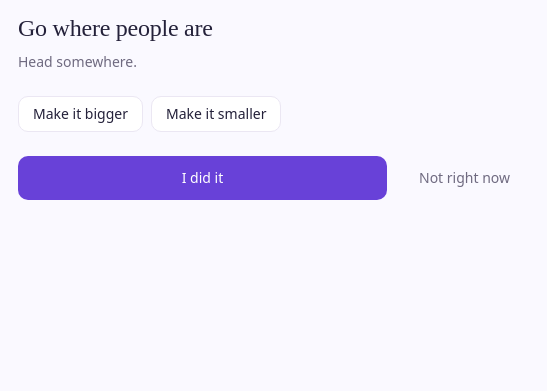
Test: TinyActionFlow › has no axe violations on the floor + support-nudge view
Click the button "Make it smaller": (216, 114) [151, 96, 281, 132]
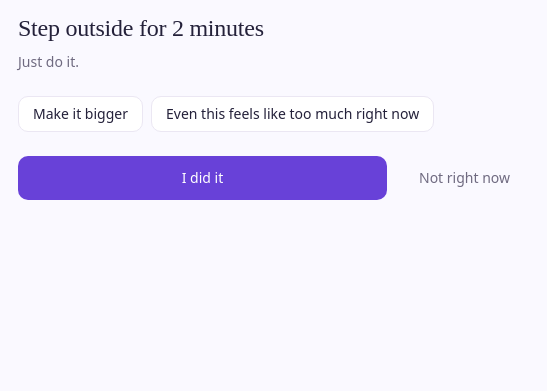
expect the heading "Step outside for 2 minutes" is shown: met, box [18, 15, 264, 41]
Click the button "Even this feels like too much right now": (293, 114) [151, 96, 434, 132]
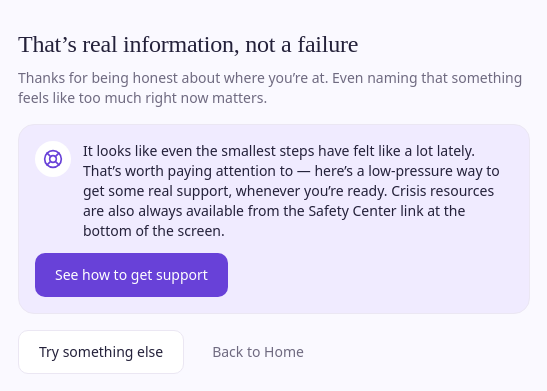
expect the heading "That’s real information, not a failure" is shown: met, box [18, 31, 358, 57]
